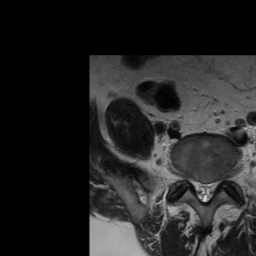CCS_normal: (201, 173, 207, 208)
LFS_severe_stenosis: (215, 170, 224, 193)
LLS_normal: (207, 175, 215, 201)
RFS_stenosis: (185, 168, 193, 193)
RLS_normal: (193, 175, 201, 201)
